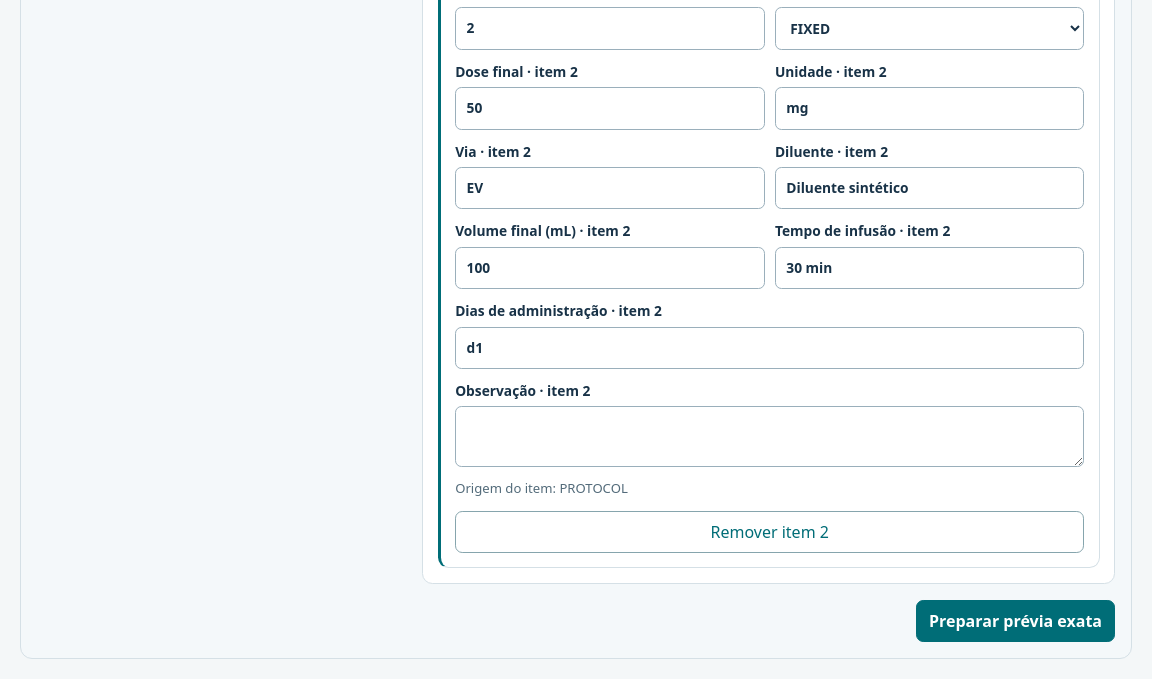
Scenario: prescrição a partir de ação revisada › aplica manter ciclo ao ciclo vigente e mantém origem e diff antes da prévia
This screenshot has width=1152, height=679.
(page scrolled)
Expected: the field labelled "Dose final · item 2" holds "50", [455,87,764,130]
Click the button "Preparar prévia exata" at coordinates (1016, 621), box [916,600,1115,642]
(page scrolled)
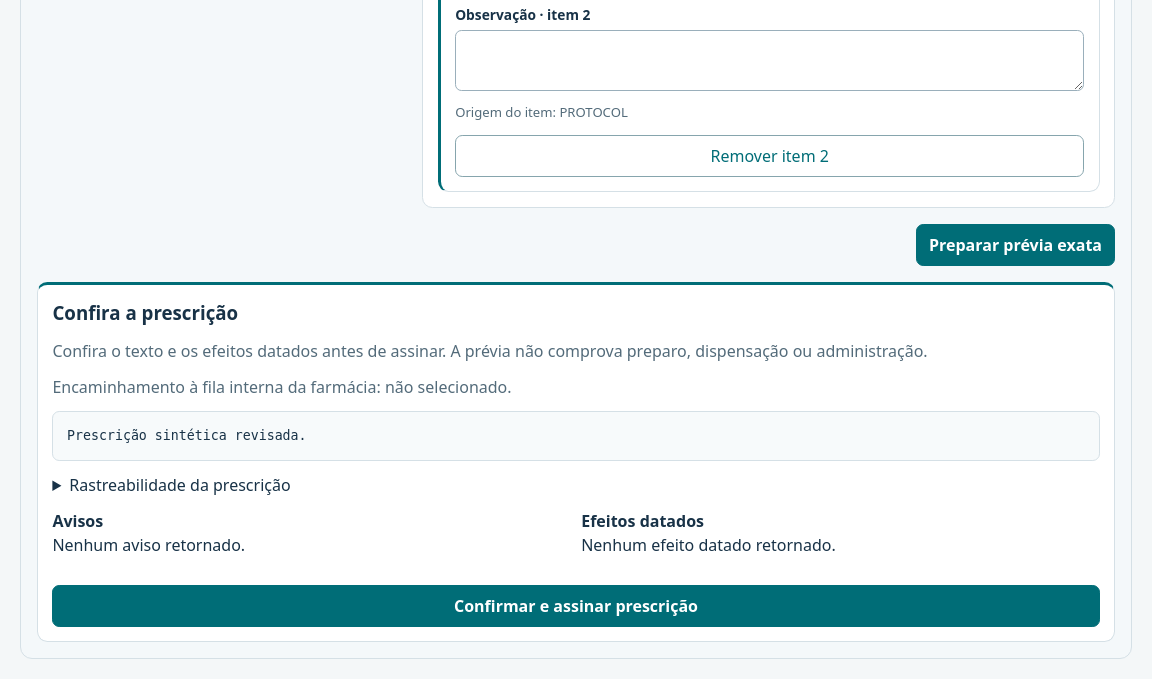
Now the element named "Prévia da prescrição" is shown, box [37,282,1115,642]
